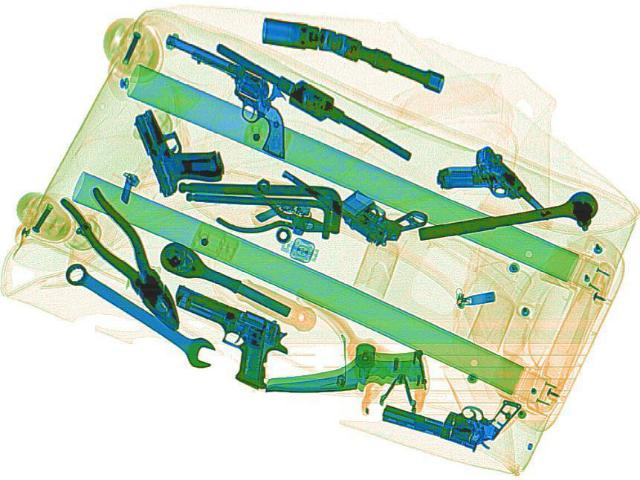Gun: (120, 34, 332, 157), (132, 282, 308, 387), (278, 139, 432, 249), (375, 367, 523, 451), (424, 143, 552, 238), (128, 99, 228, 194)
Pliers: (54, 182, 200, 334), (208, 180, 339, 250)
Wrench: (51, 257, 226, 368)
